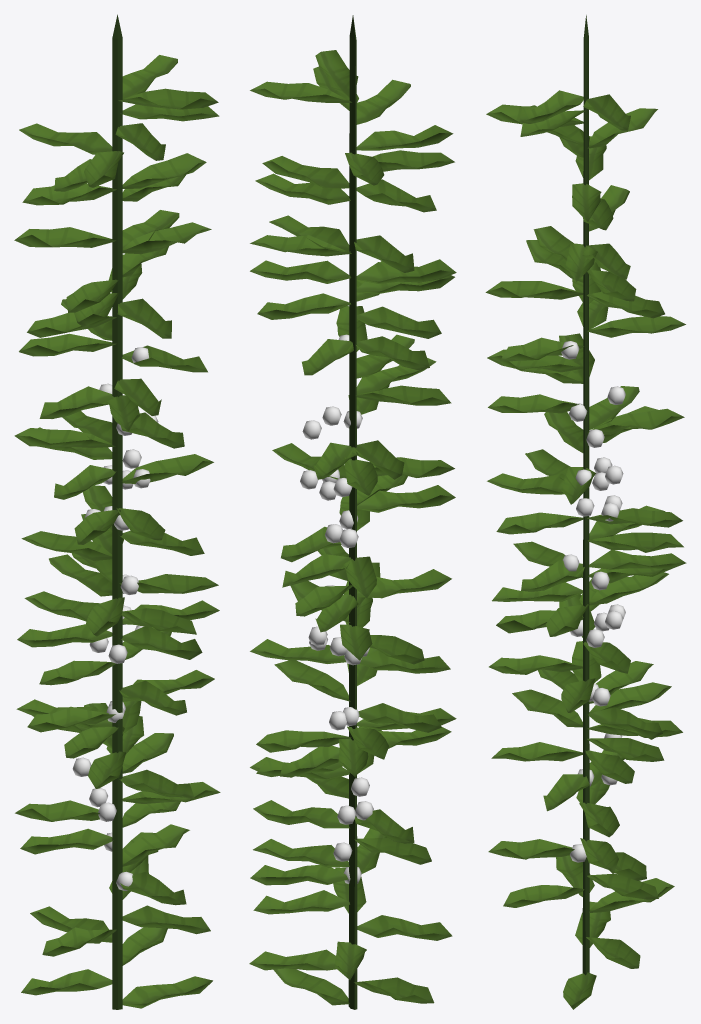
File: KelpOrb2.fbx
The picture shows the model from 3 angles, left to right: view 1: azimuth 30°, elevation 25°; view 2: azimuth 150°, elevation 25°; view 3: azimuth 270°, elevation 25°; orthographic projection. The views are drawn at different scales.
Visible parts, largest first — view 1: Circle.177; view 2: Circle.177; view 3: Circle.177.
Part boxes in pixels (<box>): Circle.177: <box>14,14,220,1009</box>; Circle.177: <box>249,15,456,1009</box>; Circle.177: <box>485,15,686,1009</box>.
Size of the model in its own units: 1174 by 6221 by 1175.
